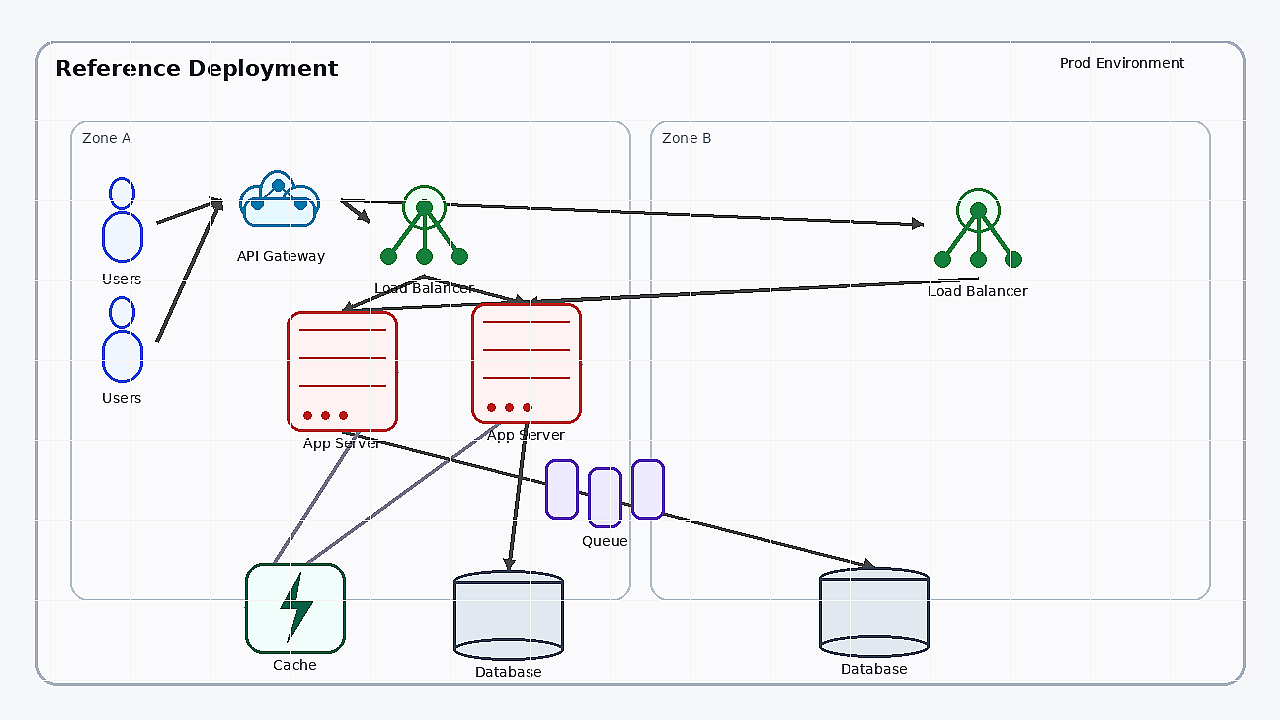API Gateway: (221, 154, 341, 244)
Application Server: (471, 303, 581, 423), (287, 311, 397, 431)
Cache: (245, 563, 345, 653)
Database: (819, 567, 929, 657), (453, 570, 563, 660)
Load Balancer: (923, 169, 1033, 279), (369, 166, 479, 276)
Message Queue: (545, 459, 665, 529)
User: (87, 177, 157, 267), (87, 296, 157, 386)
